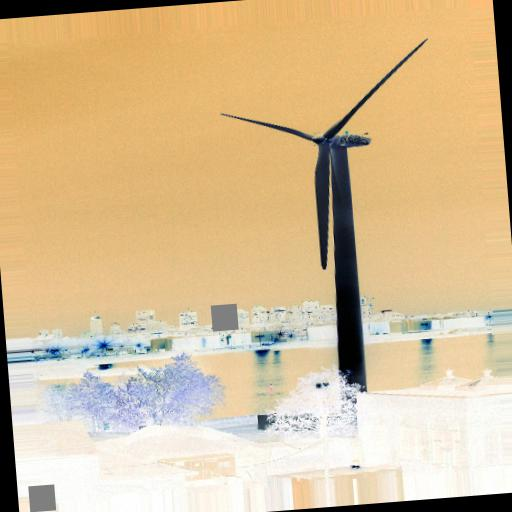wind turbine: (219, 38, 429, 383)
